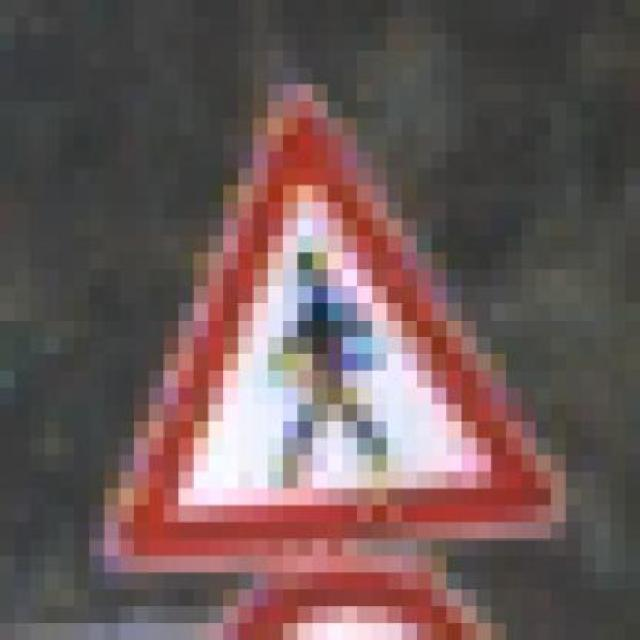Pedestrian Crossing: (90, 50, 596, 590)
